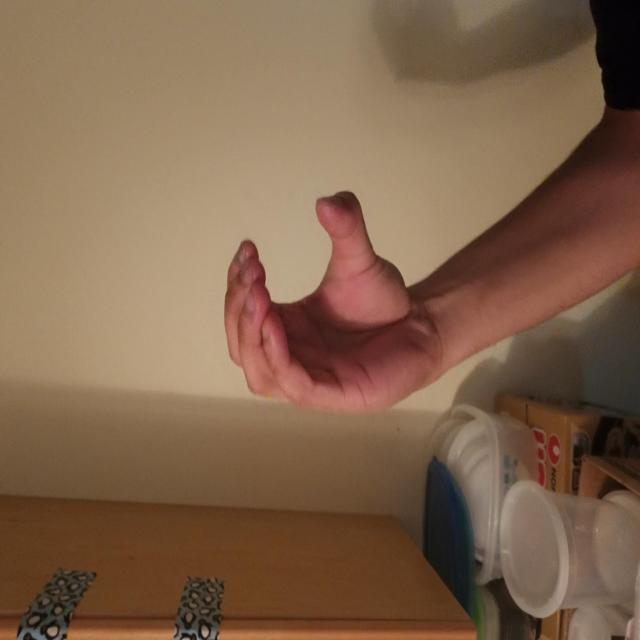C: (169, 293, 339, 579)
